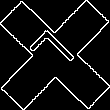L_SE: (26, 26, 84, 84)
